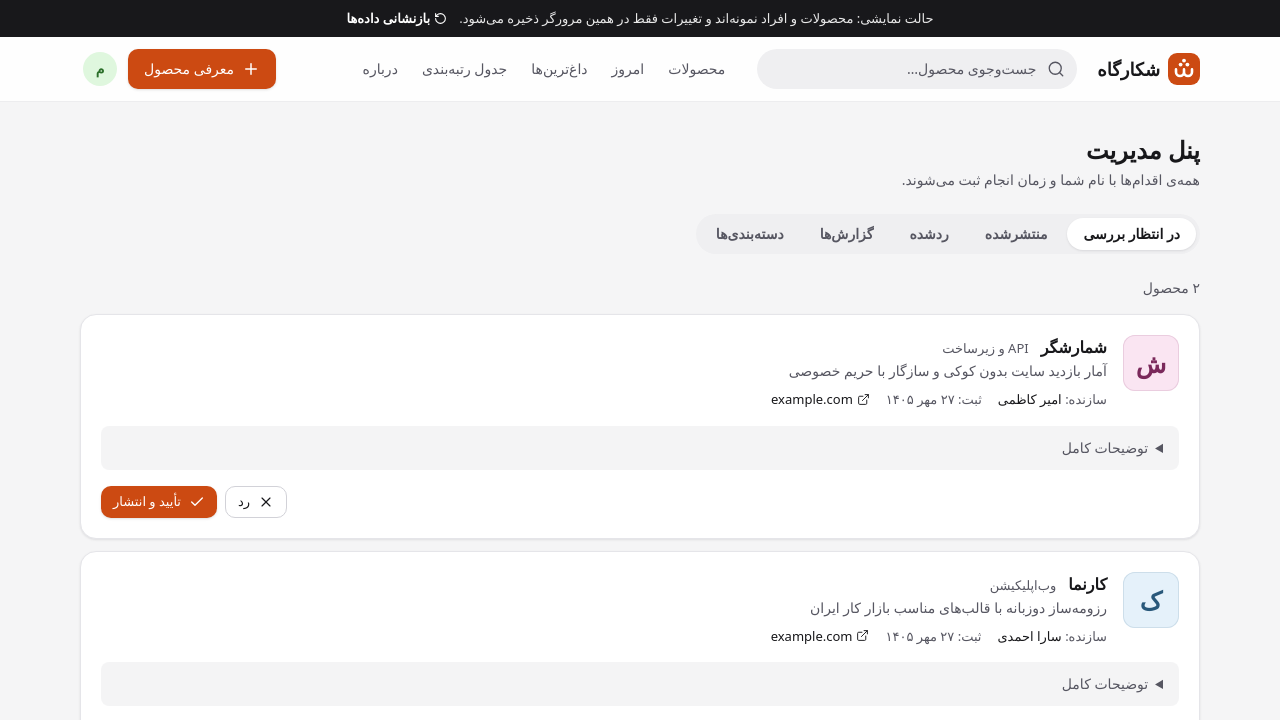
Test: admin › requires a reason to reject
Step 1. Click the button "رد" → (256, 502), box [225, 486, 287, 518]
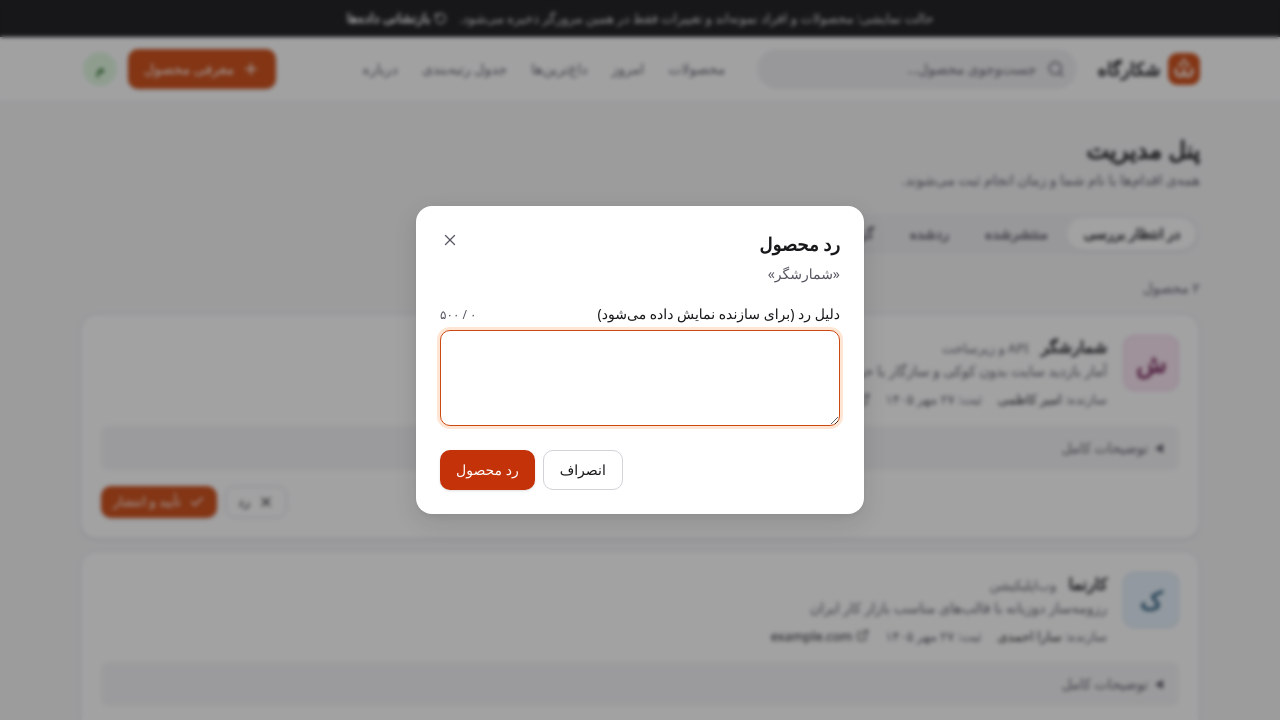
Step 2. Click the button "رد محصول" → (487, 470), box [440, 450, 535, 490]
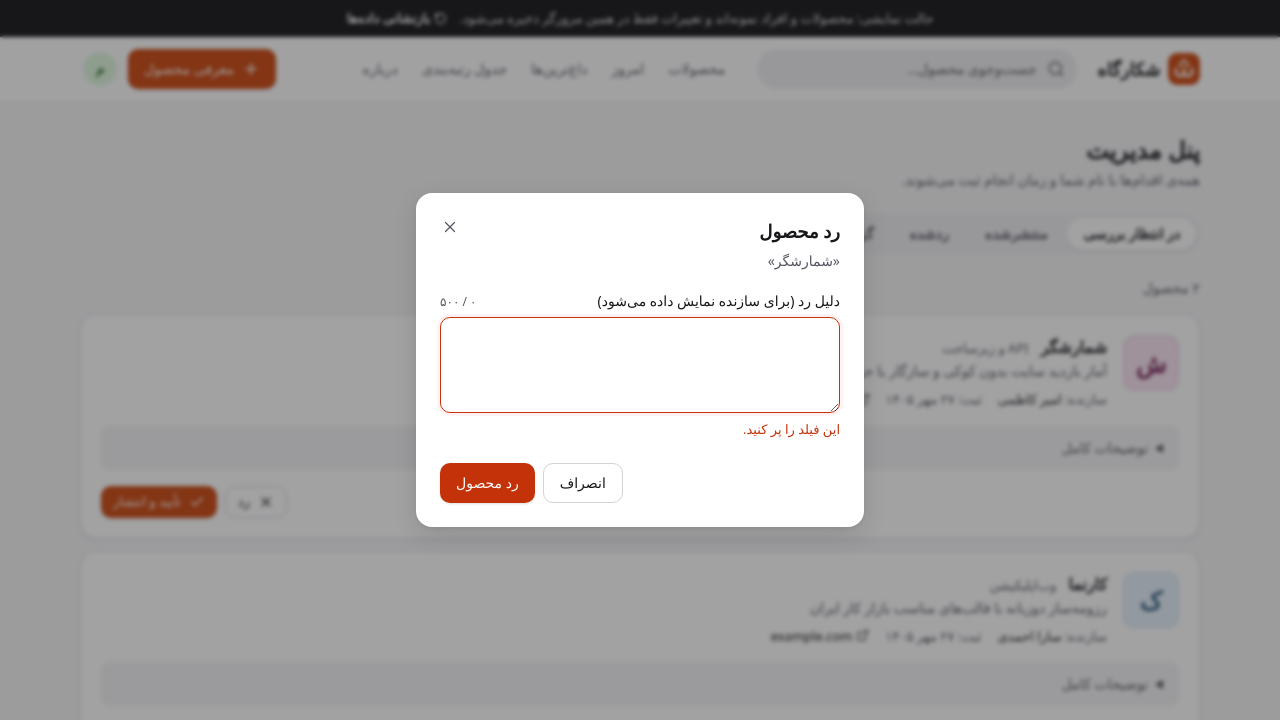
Result: the text "این فیلد را پر کنید." is shown at [743, 420, 840, 438]
